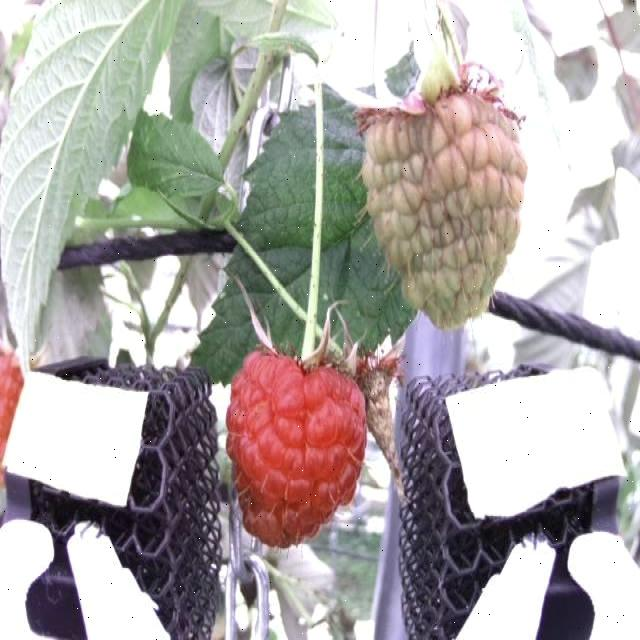Riped berries: (222, 329, 368, 542)
